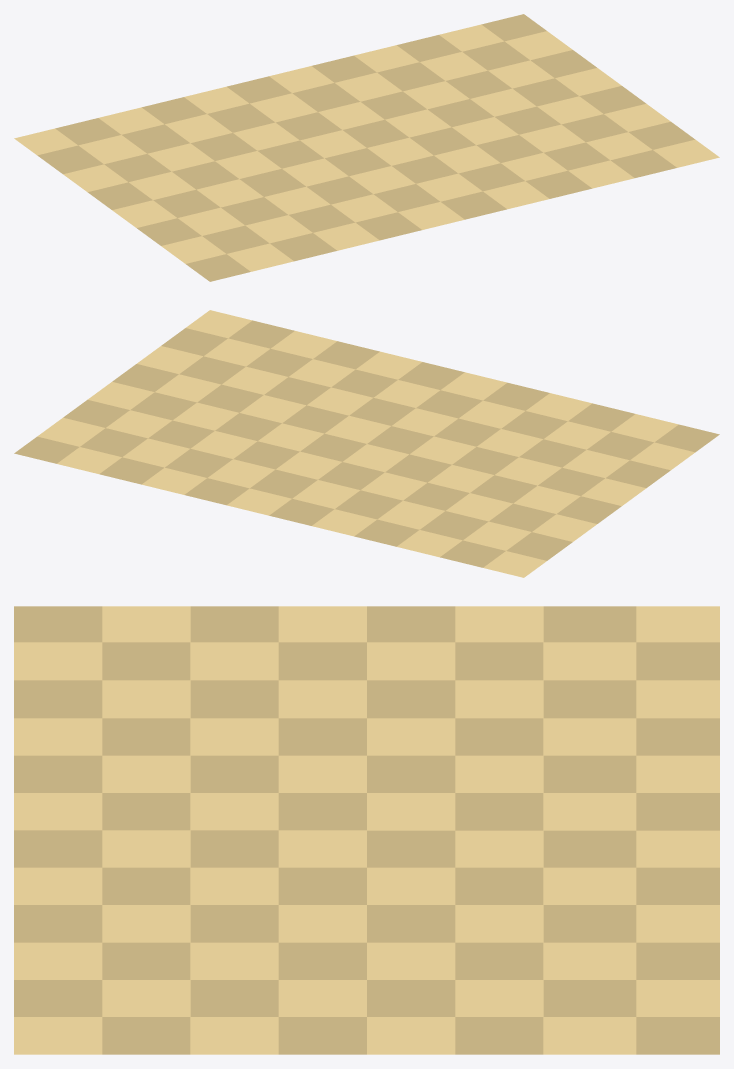
File: Floor.fbx
3 views of the same model, one above another, from view 1: azimuth 30°, elevation 25°; view 2: azimuth 150°, elevation 25°; view 3: azimuth 270°, elevation 25° (orthographic). The views are drawn at different scales.
Visible parts, largest first — view 1: Plane; view 2: Plane; view 3: Plane.
Part boxes in pixels (x1,y1,x2,y2): Plane: (14,14,719,281); Plane: (14,310,719,577); Plane: (14,606,719,1054).
Bounding box in the file's own units: 1197 × 0.00013 × 797.
